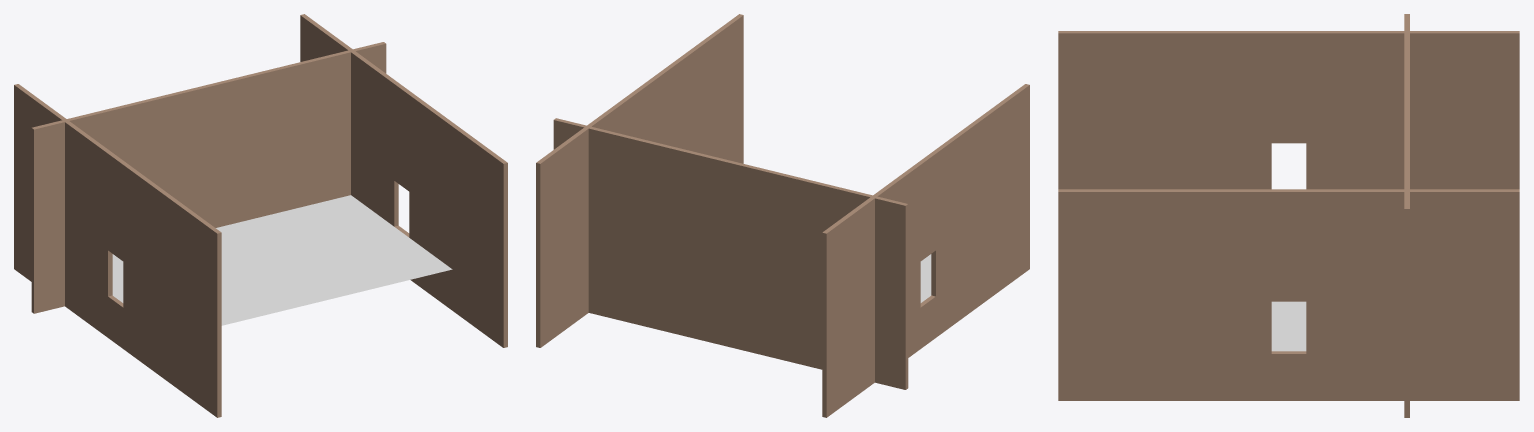
Rendered from TVR Blockout.fbx.
3 views of the same model, side by side, from view 1: azimuth 30°, elevation 25°; view 2: azimuth 150°, elevation 25°; view 3: azimuth 270°, elevation 25° (orthographic). The views are drawn at different scales.
Parts seen in each view (by area): view 1: Cube.007, Cube.018, Cube.021, Plane.088; view 2: Cube.007, Cube.018, Cube.021, Plane.088; view 3: Cube.021, Cube.018, Cube.007, Plane.088.
Part boxes in pixels (x1,y1,x2,y2): Cube.007: [31, 42, 386, 313]; Cube.018: [14, 84, 221, 417]; Cube.021: [300, 14, 507, 347]; Plane.088: [112, 195, 452, 325]; Cube.007: [553, 118, 908, 389]; Cube.018: [822, 84, 1029, 417]; Cube.021: [536, 14, 743, 347]; Plane.088: [920, 254, 931, 302]; Cube.021: [1058, 189, 1519, 400]; Cube.018: [1058, 31, 1519, 189]; Cube.007: [1404, 14, 1409, 417]; Plane.088: [1271, 301, 1306, 351].
Size of the model in its own units: 80 by 40 by 80.
